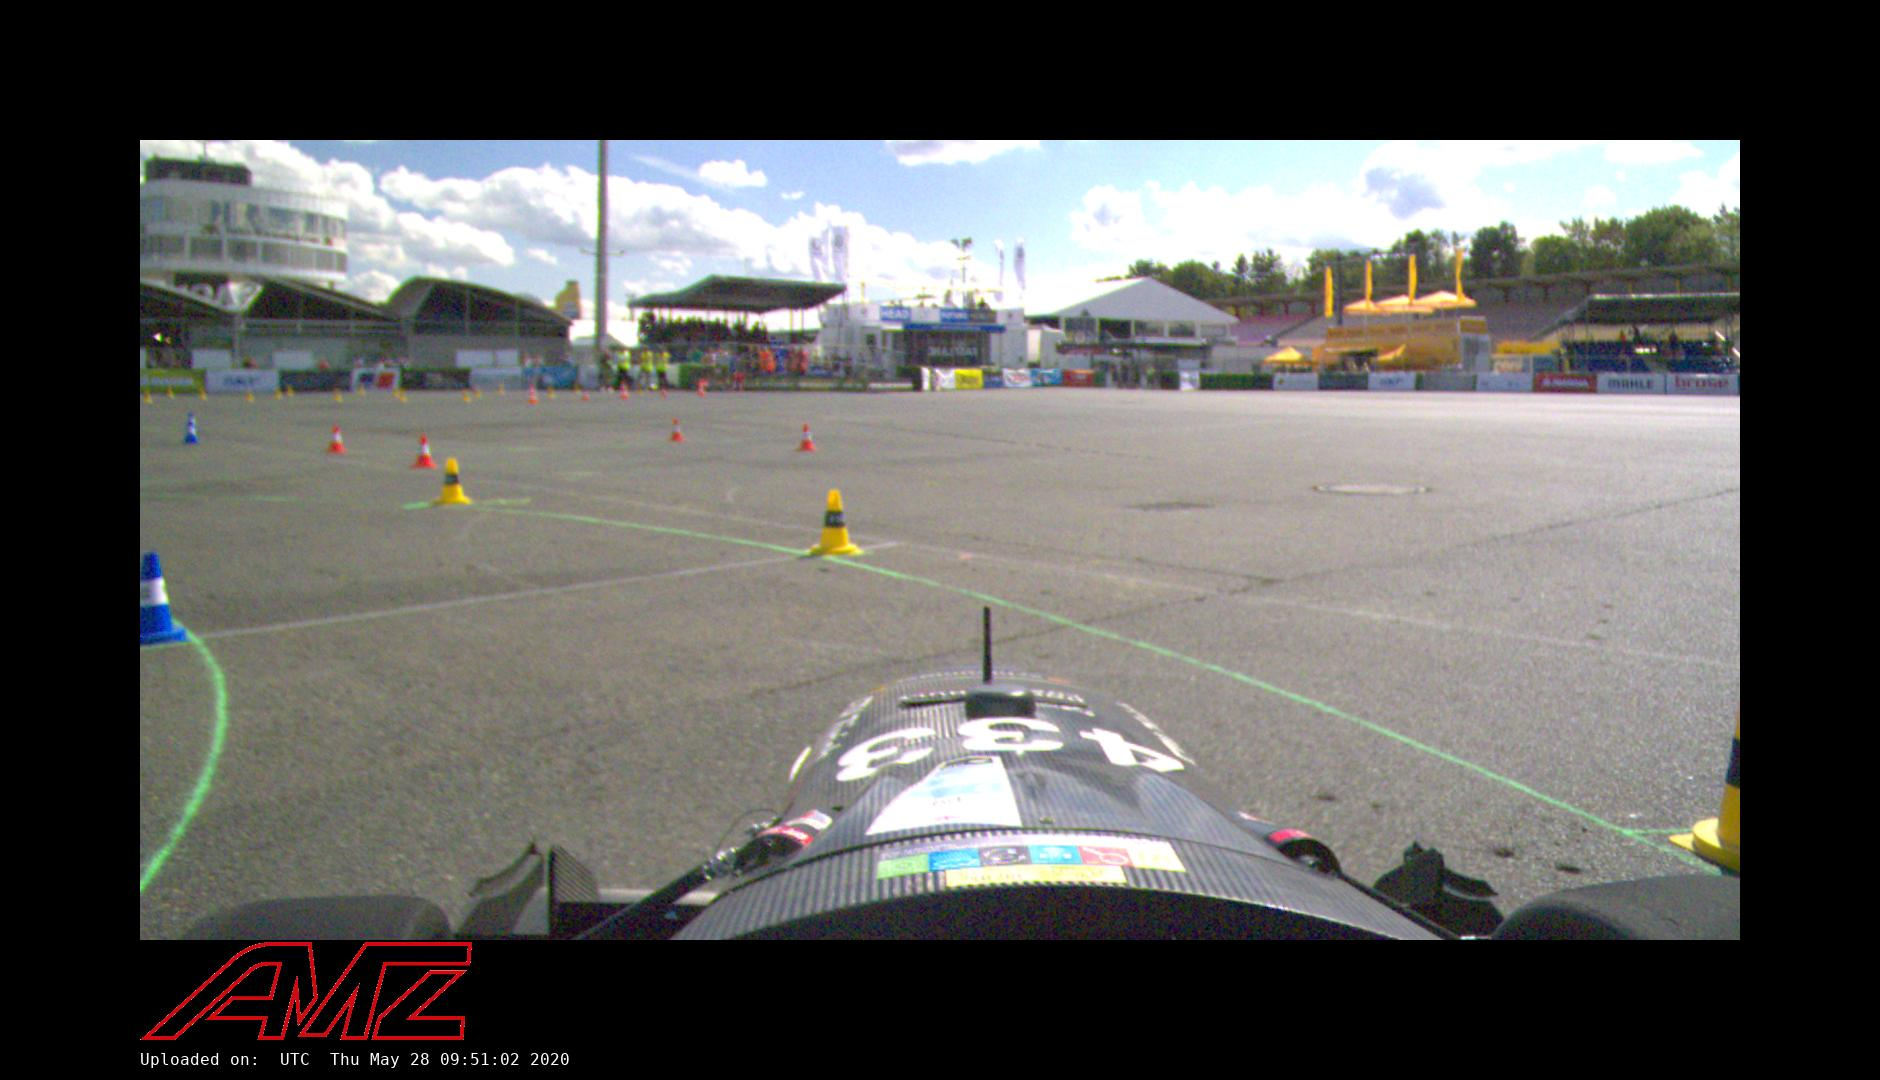blue_cone: (139, 548, 179, 647), (183, 421, 199, 444)
orange_cone: (412, 433, 435, 472), (324, 422, 349, 456), (793, 425, 817, 452), (665, 417, 686, 442)
yellow_cone: (1667, 701, 1739, 863), (804, 484, 863, 557), (433, 455, 471, 508)
